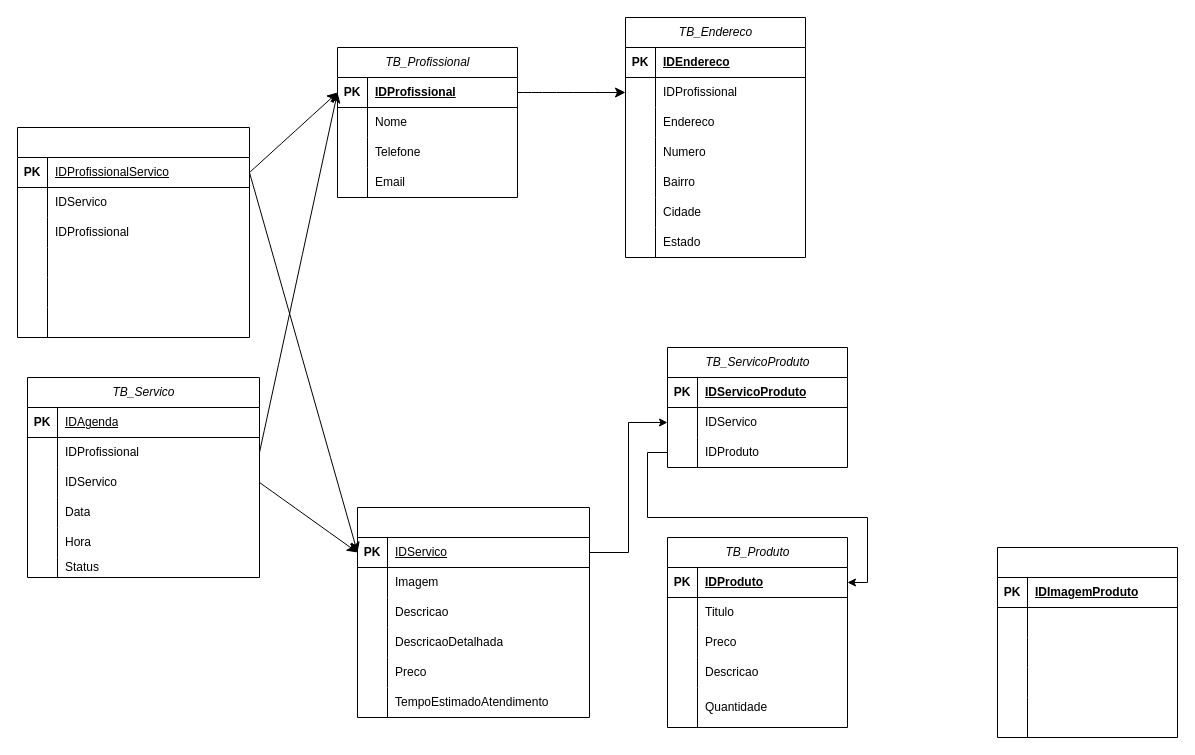
This 1195x755 diagram has some shape labels left out. The box of each missing label's shape, as (x1, y1, x2, y2) in pixels:
TB_ImagemProduto: (996, 546, 1178, 738)
TB_ProfissionalServico: (16, 126, 250, 338)
TB_TipoServico: (356, 506, 590, 718)
